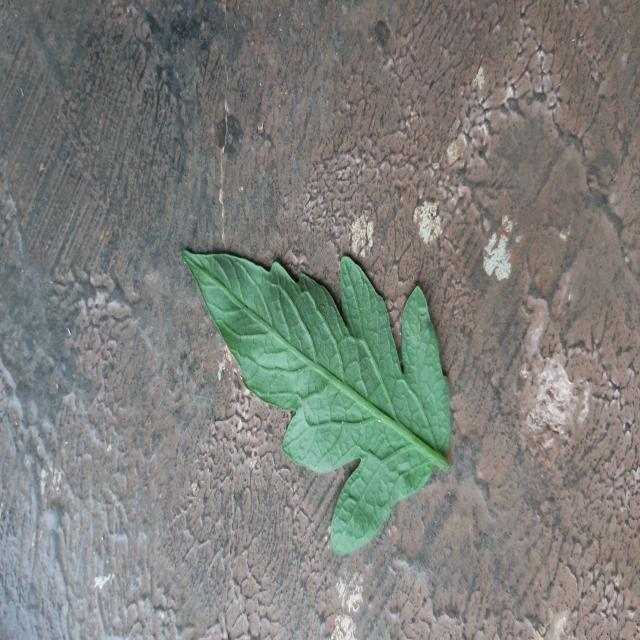tomato: (182, 251, 450, 553), (182, 251, 350, 411)
